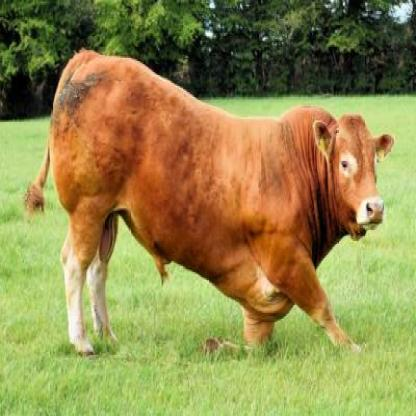lower: (366, 221, 378, 230)
mouth: (357, 199, 384, 229)
upper: (373, 203, 379, 215)
